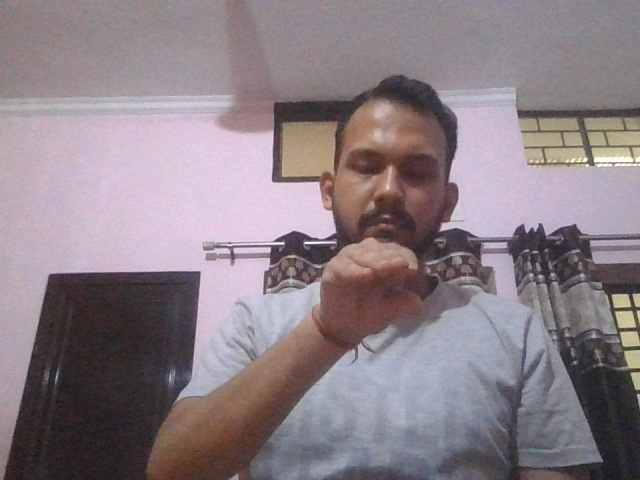no: (321, 237, 423, 341)
